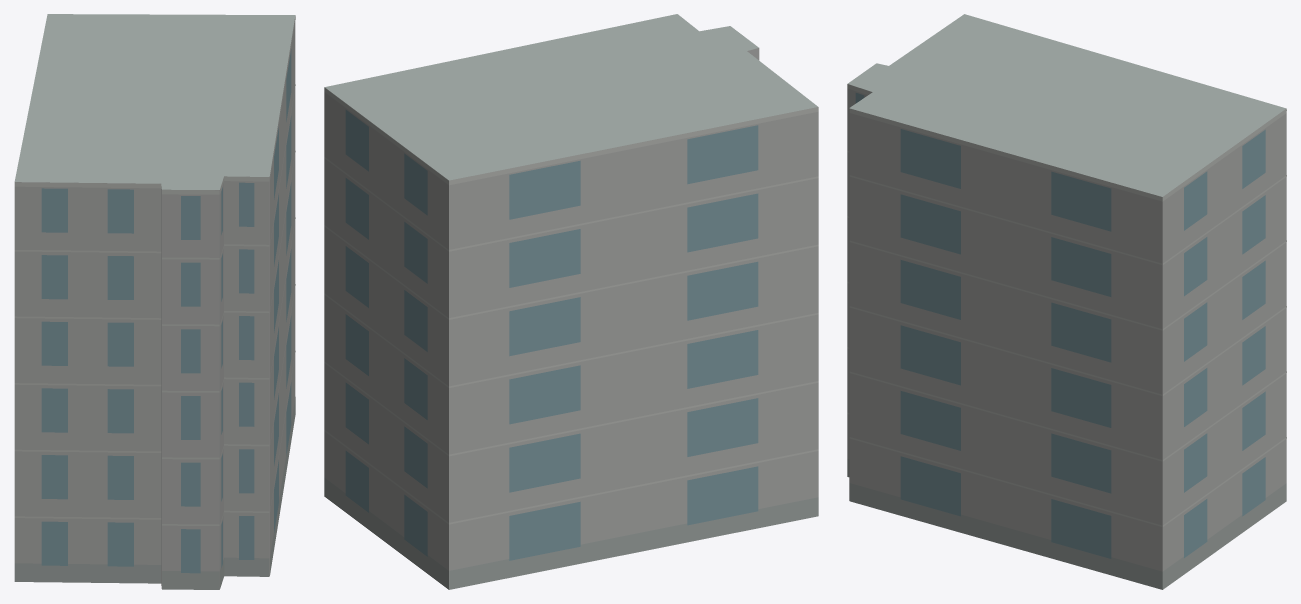
File: survey-upis-33045241.glb
3 views of the same model, side by side, from view 1: azimuth 30°, elevation 25°; view 2: azimuth 150°, elevation 25°; view 3: azimuth 270°, elevation 25° (orthographic). The views are drawn at different scales.
Visible parts, largest first — view 1: survey-upis-33045241.tmp; view 2: survey-upis-33045241.tmp; view 3: survey-upis-33045241.tmp.
Part boxes in pixels (x1,y1,x2,y2): survey-upis-33045241.tmp: (14,14,295,589); survey-upis-33045241.tmp: (324,14,818,589); survey-upis-33045241.tmp: (847,14,1286,589).
Bounding box in the file's own units: 21 × 21 × 21.3.
